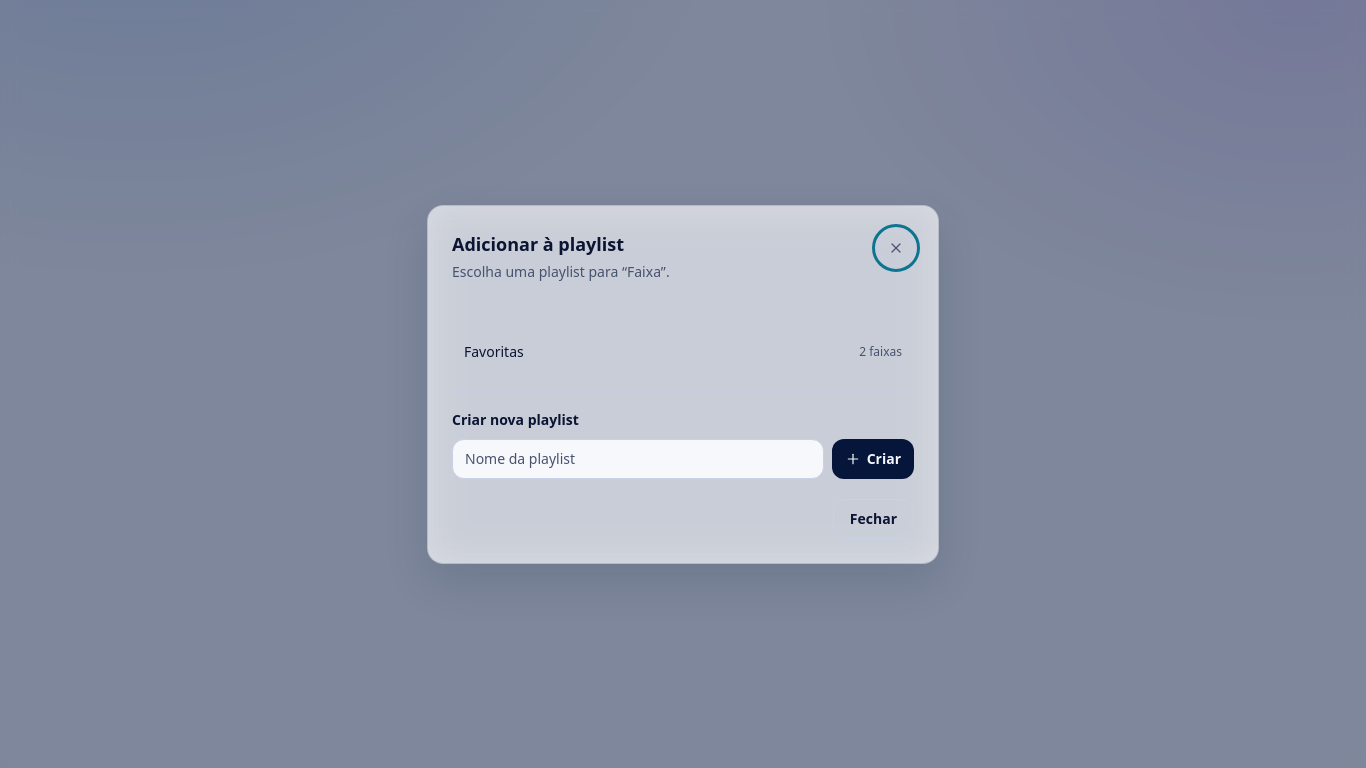
AddToPlaylistDialog › mostra feedback específico quando a faixa já está na playlist
Click the button "Favoritas 2 faixas".
click(494, 351)  # box 452,330 -> 914,374
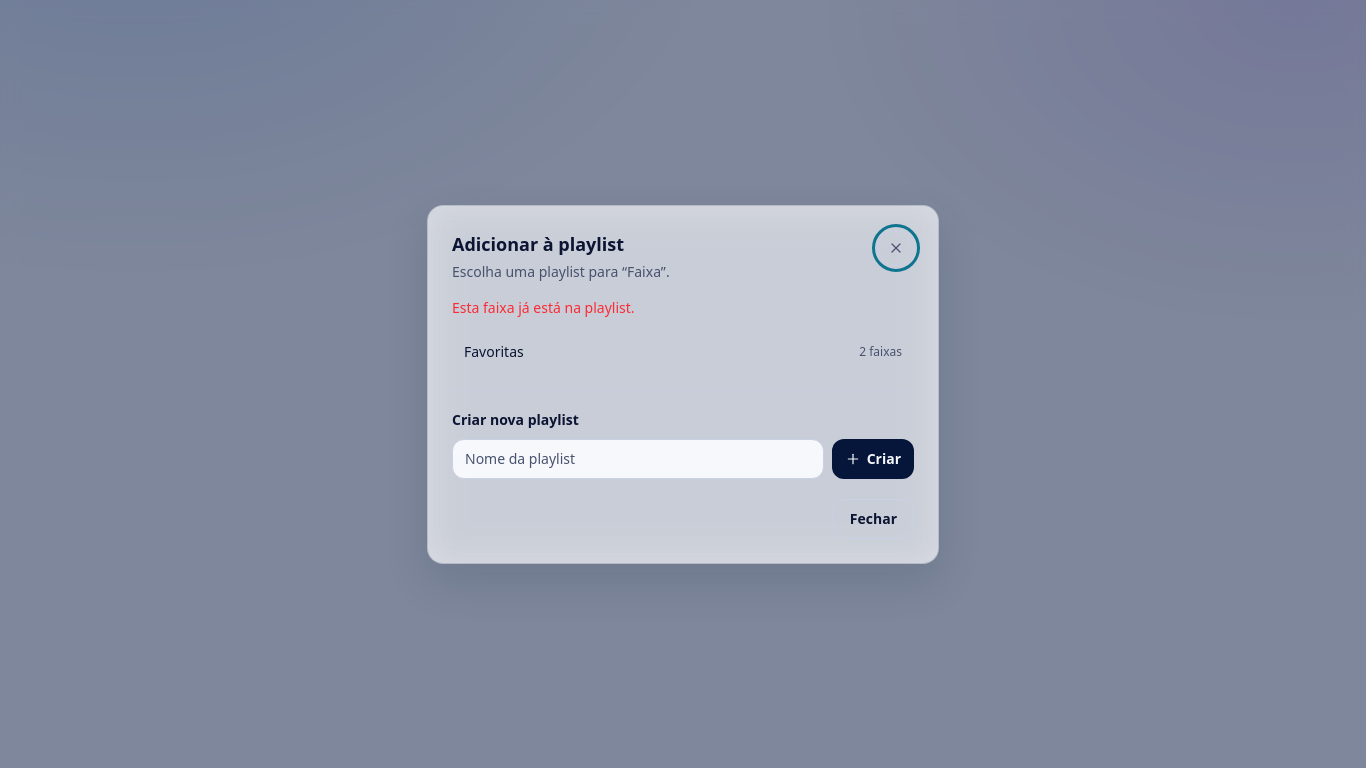
Result: the text "Esta faixa já está na playlist." is shown at 452,298 -> 635,316
